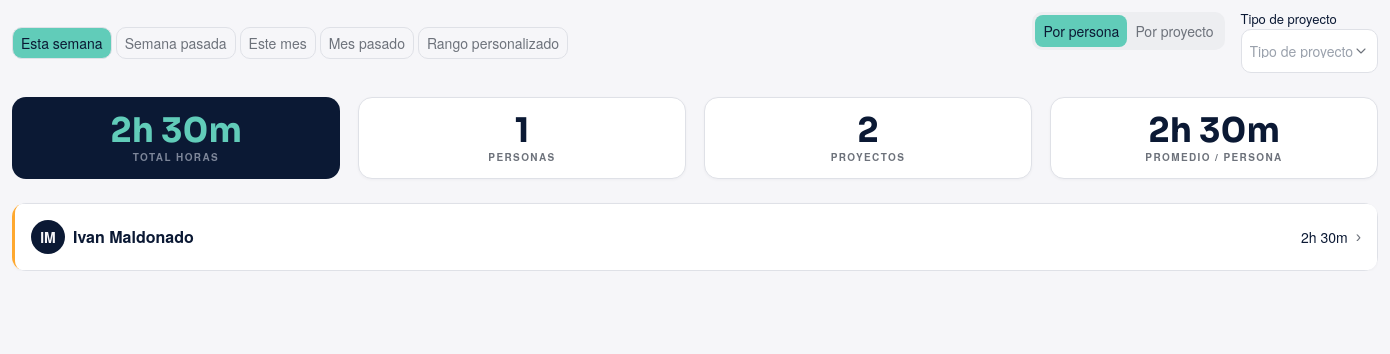
Test: ReportPage — S-071/S-058 (filtro por tipo de proyecto, Select multiple del DS) › TS-17: tildar "Comercial" muestra solo proyectos type=comercial y recalcula cards
Click the dropdown labelled "Tipo de proyecto" at (1309, 51), box x1=1241 y1=29 x2=1378 y2=73
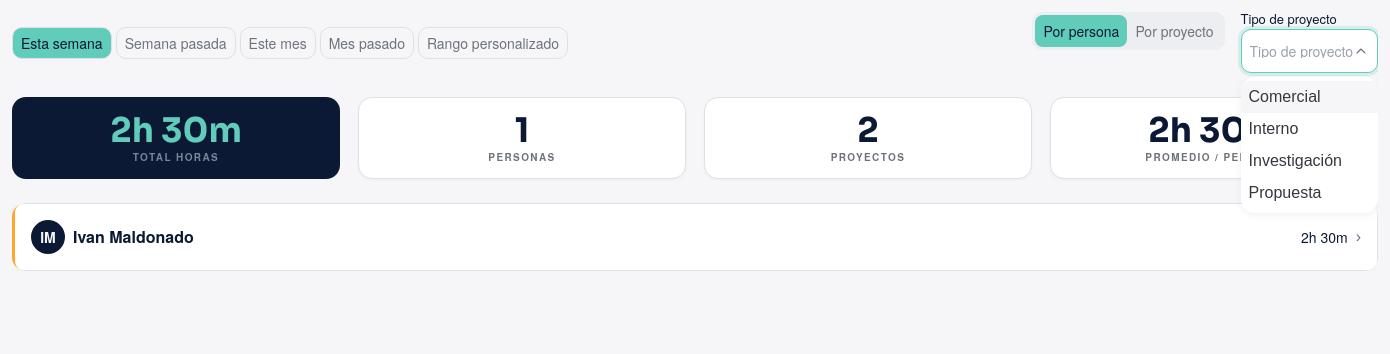
Click the option "Comercial" at (1309, 97), box x1=1241 y1=81 x2=1378 y2=113
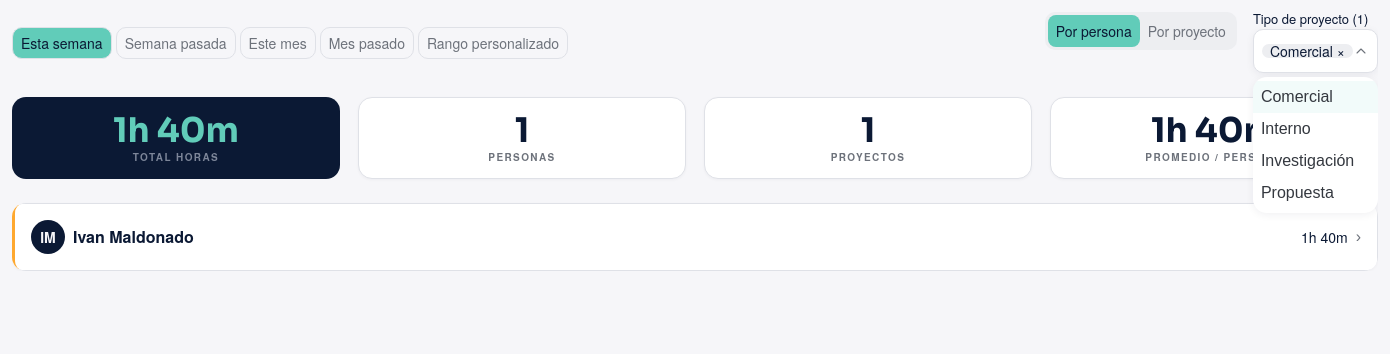
Expected: the 1st text "1h 40m" is shown, x1=113 y1=114 x2=239 y2=148
Press Escape
Click the text "Ivan Maldonado" at (133, 236), box x1=73 y1=225 x2=194 y2=248
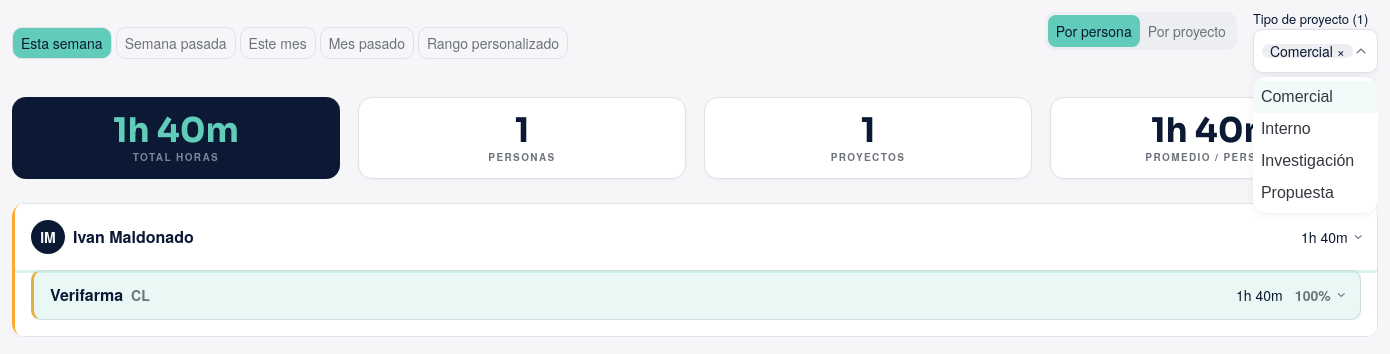
Expected: the text "CL" is shown, x1=131 y1=287 x2=150 y2=303
